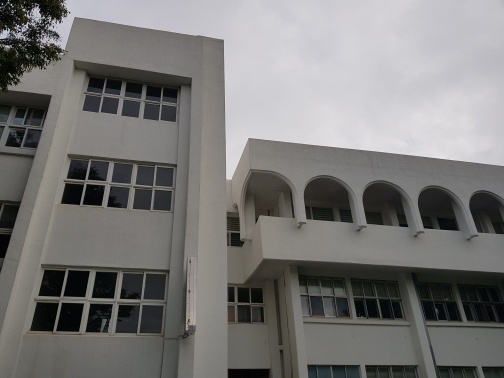Main Building of University: (34, 19, 500, 372), (300, 170, 474, 246)
